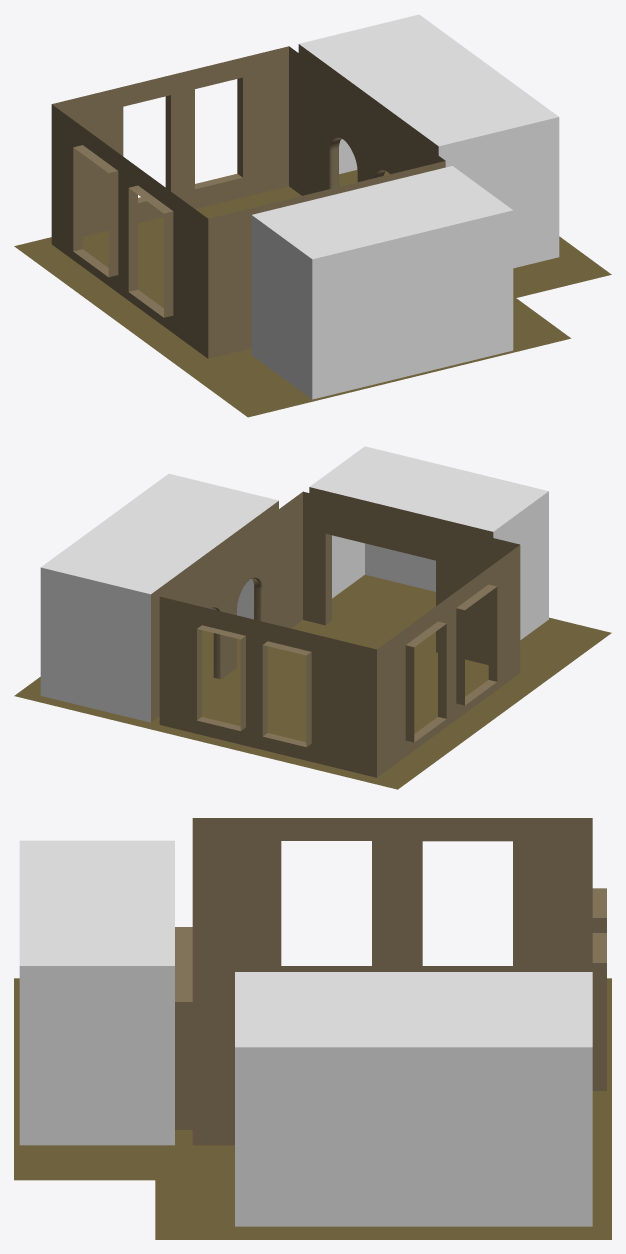
Rendered from Room03.FBX.
3 renders of one model, top to bottom at view 1: azimuth 30°, elevation 25°; view 2: azimuth 150°, elevation 25°; view 3: azimuth 270°, elevation 25°, orthographic. The views are drawn at different scales.
Visible parts, largest first — view 1: Room03; view 2: Room03; view 3: Room03.
Part boxes in pixels (x1,y1,x2,y2): Room03: (14,14,611,417); Room03: (14,446,611,789); Room03: (14,818,611,1239).
Size of the model in its own units: 1451 by 1402 by 464.
